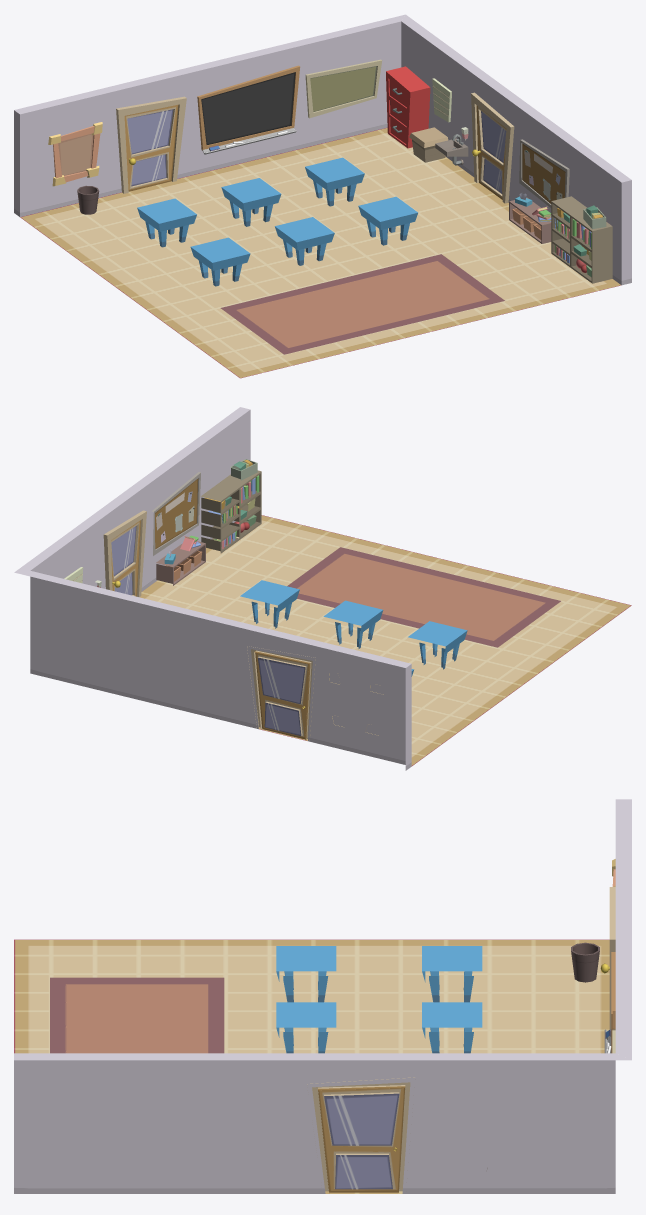
File: S_ClassroomLevel_06.FBX
3 views of the same model, one above another, from view 1: azimuth 30°, elevation 25°; view 2: azimuth 150°, elevation 25°; view 3: azimuth 270°, elevation 25° (orthographic). The views are drawn at different scales.
Parts seen in each view (by area): view 1: S_FloorPlane, S_Wall_Left, S_Wall_Right, S_Rug, S_Chalkboard, S_Door_LeftWall, S_Bookshelf, S_Door_RightWall, S_Board01, S_CabinetDrawers, S_Painting, S_BulletonBoard (+11 smaller); view 2: S_Wall_Left, S_FloorPlane, S_Rug, S_Wall_Right, S_Door_LeftWall, S_Bookshelf, S_Door_RightWall, S_BulletonBoard, S_BoxShelf, S_Desk04, S_Desk06, S_Desk02; view 3: S_Wall_Right, S_FloorPlane, S_Rug, S_Door_RightWall, S_Wall_Left, S_Desk06, S_Desk05, S_Desk_03, S_Desk04, S_Trashcan, S_Door_LeftWall, S_Chalkboard.
Boxes of the visible parts, x1,y1,x2,y2 form: S_FloorPlane: (20, 127, 621, 378); S_Wall_Left: (14, 14, 405, 217); S_Wall_Right: (401, 15, 631, 285); S_Rug: (220, 254, 504, 354); S_Chalkboard: (197, 65, 300, 154); S_Door_LeftWall: (116, 96, 186, 193); S_Bookshelf: (551, 196, 612, 283); S_Door_RightWall: (471, 92, 514, 203); S_Board01: (305, 59, 382, 118); S_CabinetDrawers: (386, 66, 430, 148); S_Painting: (48, 122, 102, 186); S_BulletonBoard: (519, 139, 569, 207); S_Wall_Left: (15, 570, 411, 770); S_FloorPlane: (140, 515, 631, 766); S_Rug: (287, 547, 560, 647); S_Wall_Right: (14, 407, 250, 591); S_Door_LeftWall: (247, 646, 315, 740); S_Bookshelf: (201, 459, 261, 553); S_Door_RightWall: (103, 510, 146, 597); S_BulletonBoard: (152, 472, 200, 555); S_BoxShelf: (156, 535, 205, 585); S_Desk04: (323, 600, 383, 648); S_Desk06: (408, 621, 467, 669); S_Desk02: (240, 580, 299, 628); S_Wall_Right: (14, 1053, 631, 1193); S_FloorPlane: (14, 939, 609, 1193); S_Rug: (50, 977, 224, 1053); S_Door_RightWall: (307, 1077, 414, 1192); S_Wall_Left: (615, 799, 631, 1059); S_Desk06: (276, 946, 336, 1002); S_Desk05: (422, 946, 482, 1002); S_Desk_03: (422, 1002, 482, 1053); S_Desk04: (276, 1002, 336, 1053); S_Trashcan: (571, 942, 599, 982); S_Door_LeftWall: (600, 887, 615, 1030); S_Chalkboard: (604, 952, 615, 1053).
Bounding box in the file's own units: 329 × 82.42 × 329.
